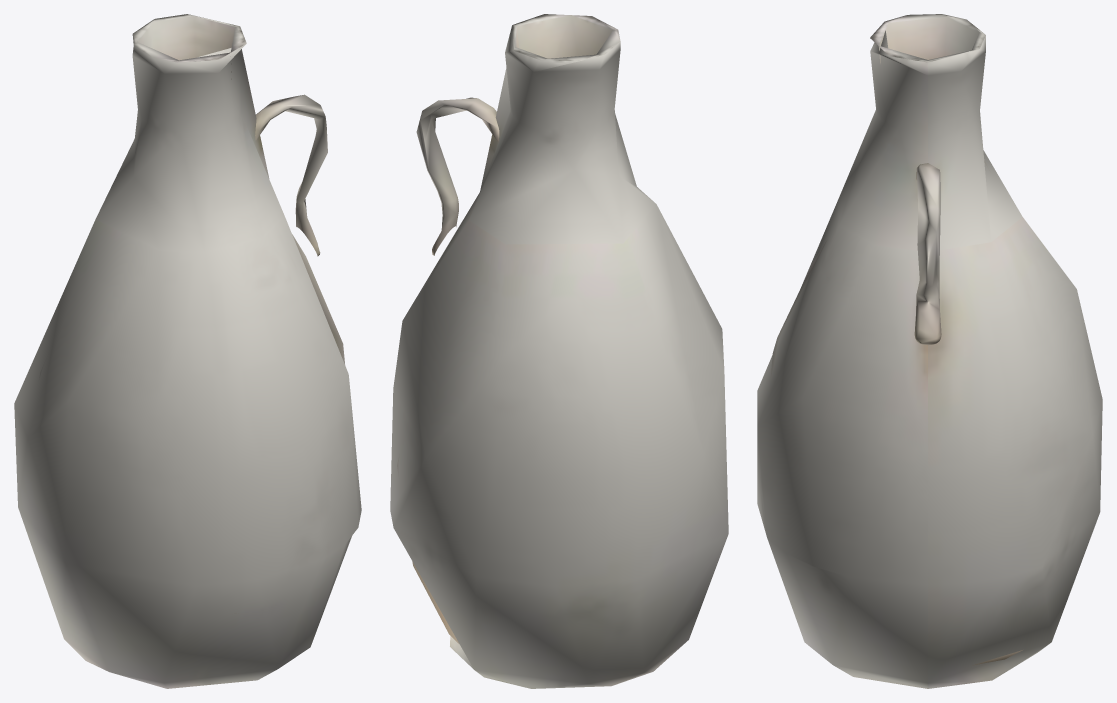
File: ceramic_vase_04.low.glb
The picture shows the model from 3 angles, left to right: view 1: azimuth 30°, elevation 25°; view 2: azimuth 150°, elevation 25°; view 3: azimuth 270°, elevation 25°; orthographic projection.
Visible parts, largest first — view 1: body; view 2: body; view 3: body.
Boxes of the visible parts, x1,y1,x2,y2 form: body: (14,14,361,688); body: (390,14,728,688); body: (757,14,1102,688).
Bounding box in the file's own units: 0.1793 × 0.341 × 0.1767.
Materials: 1 (1 with a texture image).
